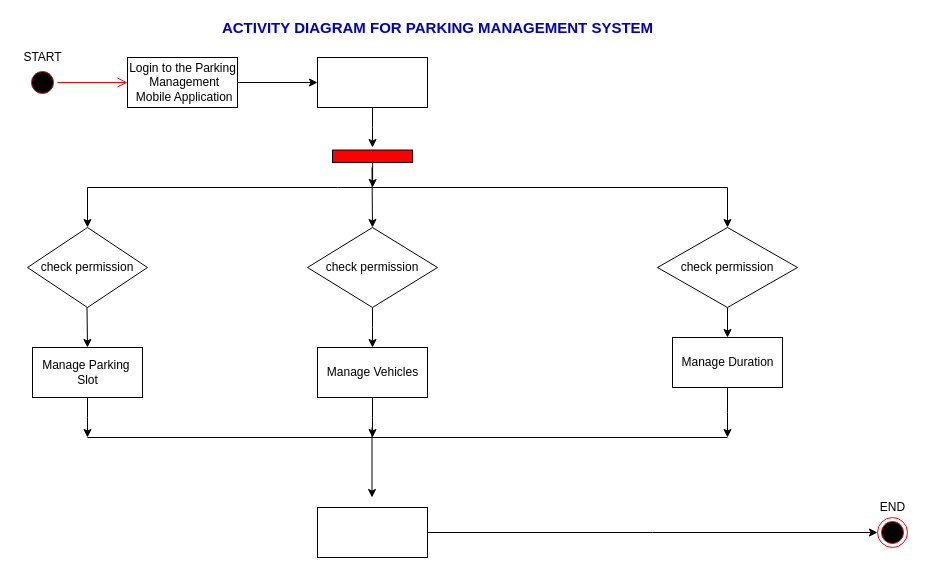
This 929x575 diagram has some shape labels left out. Here are the shapes that lost their labels. From the top down, the centre of each, then its label:
At (x=372, y=82): "Authenticate user data".
At (x=372, y=532): "Log out from the Application Portal".
